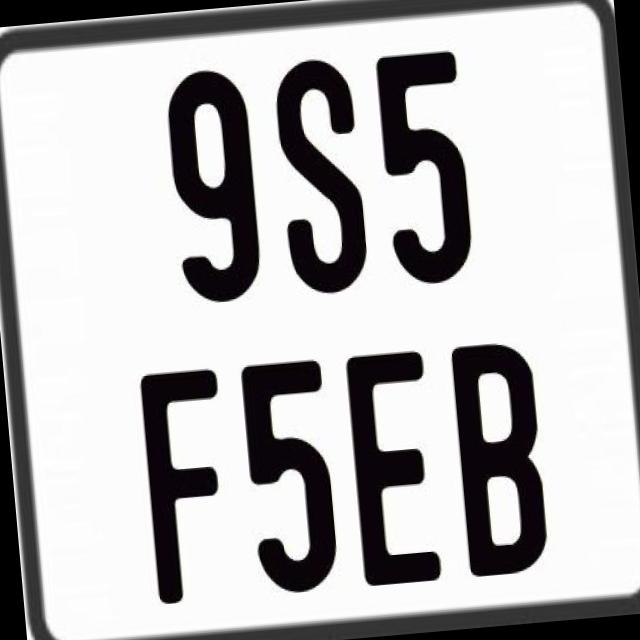5: (370, 44, 477, 290), (238, 358, 342, 603)
9: (162, 61, 269, 306)
B: (446, 335, 554, 577)
E: (344, 346, 442, 583)
F: (138, 366, 240, 604)
S: (267, 51, 372, 296)
